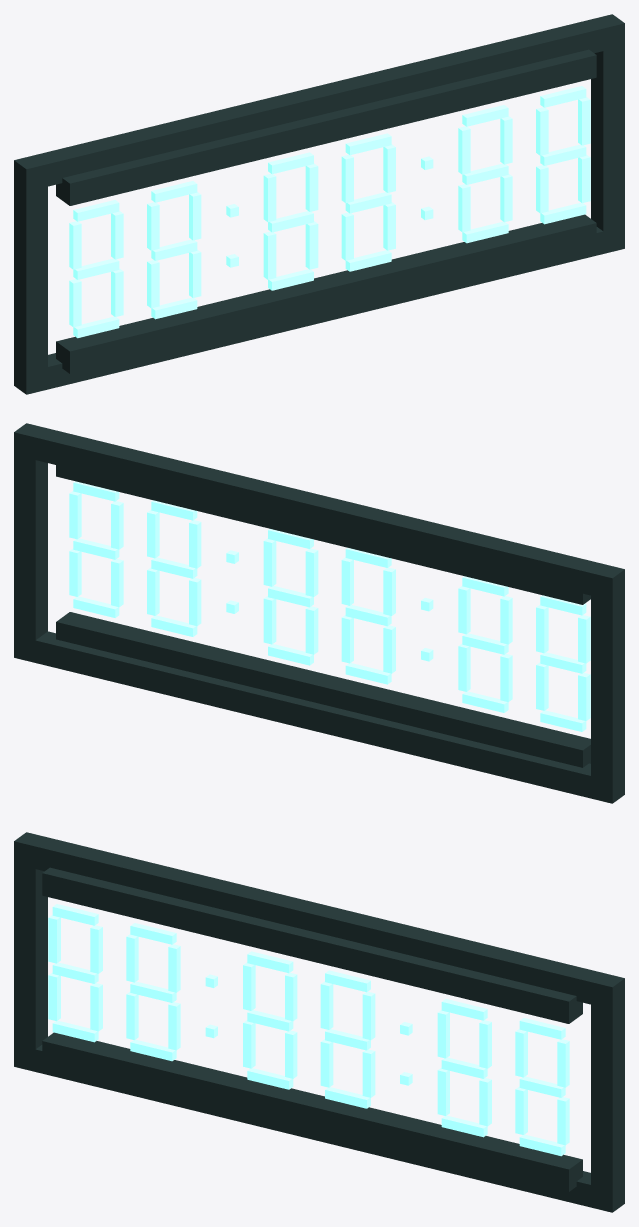
File: digital-recessed-v1-model.glb
3 renders of one model, top to bottom at view 1: azimuth 30°, elevation 25°; view 2: azimuth 150°, elevation 25°; view 3: azimuth 330°, elevation 25°, orthographic.
Parts seen in each view (by area): view 1: digital-groove-bottom, digital-frame-top, digital-groove-top, digital-frame-bottom, digital-frame-left, digital-frame-right, clock-digit-3-f, clock-digit-3-e, clock-digit-3-b, clock-digit-3-c, clock-digit-2-a, clock-digit-1-a (+36 smaller); view 2: digital-frame-top, digital-frame-bottom, digital-groove-bottom, digital-groove-top, digital-frame-left, digital-frame-right, clock-digit-4-e, clock-digit-4-f, clock-digit-4-b, clock-digit-4-c, clock-digit-6-f, clock-digit-1-f (+31 smaller); view 3: digital-groove-bottom, digital-frame-top, digital-groove-top, digital-frame-bottom, digital-frame-right, digital-frame-left, clock-digit-4-b, clock-digit-4-c, clock-digit-4-f, clock-digit-4-e, clock-digit-5-a, clock-digit-1-a (+36 smaller).
Boxes of the visible parts, <box> form: digital-groove-bottom: <box>56,214,596,373</box>; digital-frame-top: <box>14,14,624,191</box>; digital-groove-top: <box>56,49,596,205</box>; digital-frame-bottom: <box>14,226,624,394</box>; digital-frame-left: <box>14,183,47,372</box>; digital-frame-right: <box>591,46,624,231</box>; clock-digit-3-f: <box>263,173,276,222</box>; clock-digit-3-e: <box>263,231,276,279</box>; clock-digit-3-b: <box>305,163,318,211</box>; clock-digit-3-c: <box>305,221,318,269</box>; clock-digit-2-a: <box>151,181,197,202</box>; clock-digit-1-a: <box>73,200,119,221</box>; digital-frame-top: <box>14,423,624,600</box>; digital-frame-bottom: <box>14,631,624,803</box>; digital-groove-bottom: <box>56,612,590,767</box>; digital-groove-top: <box>56,465,590,604</box>; digital-frame-left: <box>591,592,624,781</box>; digital-frame-right: <box>14,455,47,640</box>; clock-digit-4-e: <box>305,606,318,654</box>; clock-digit-4-f: <box>305,548,318,596</box>; clock-digit-4-b: <box>263,538,276,586</box>; clock-digit-4-c: <box>263,596,276,644</box>; clock-digit-6-f: <box>111,501,123,549</box>; clock-digit-1-f: <box>578,615,590,663</box>; digital-groove-bottom: <box>42,1032,582,1191</box>; digital-frame-top: <box>14,832,624,1009</box>; digital-groove-top: <box>42,867,582,1023</box>; digital-frame-bottom: <box>14,1044,624,1212</box>; digital-frame-right: <box>591,1001,624,1190</box>; digital-frame-left: <box>14,864,47,1049</box>; clock-digit-4-b: <box>362,991,375,1040</box>; clock-digit-4-c: <box>362,1049,375,1097</box>; clock-digit-4-f: <box>320,981,333,1029</box>; clock-digit-4-e: <box>320,1039,333,1087</box>; clock-digit-5-a: <box>441,999,487,1020</box>; clock-digit-1-a: <box>52,904,98,925</box>.
Size of the model in its own units: 0.5 by 0.18 by 0.029.
